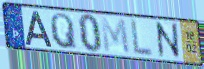0: (76, 13, 104, 54)
A: (24, 10, 53, 48)
L: (130, 18, 154, 59)
M: (100, 16, 132, 56)
N: (153, 20, 183, 60)
Q: (49, 12, 79, 52)
